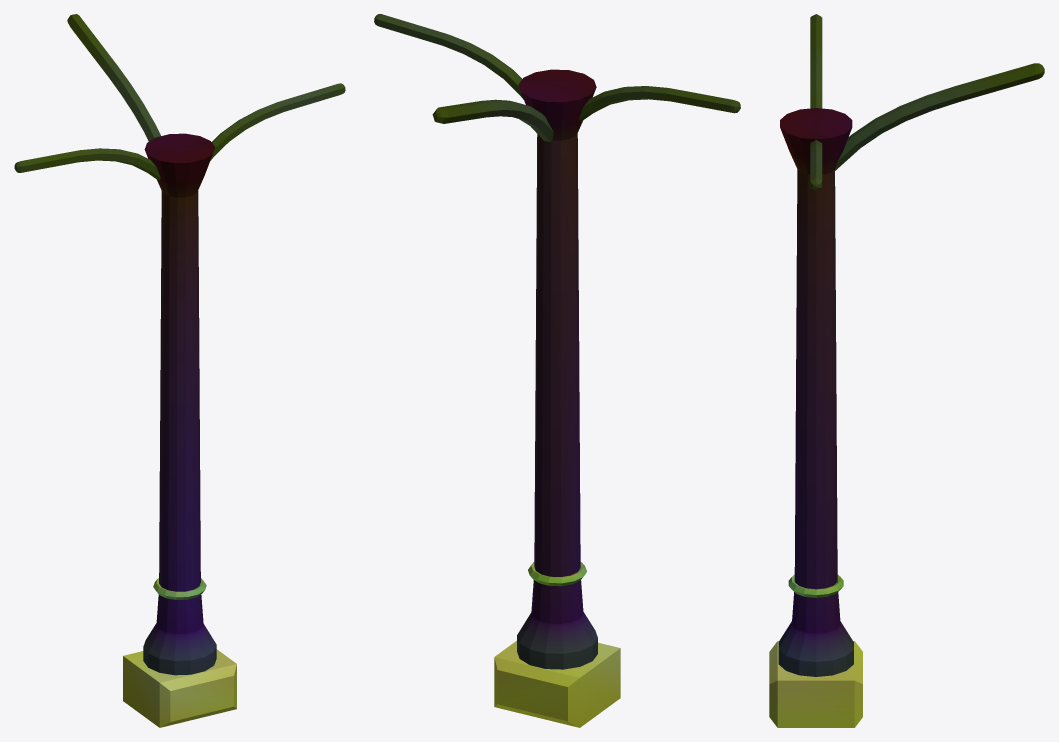
File: GS_EntranceCanopy_Column.fbx
3 views of the same model, side by side, from view 1: azimuth 30°, elevation 25°; view 2: azimuth 150°, elevation 25°; view 3: azimuth 270°, elevation 25° (orthographic). The views are drawn at different scales.
Parts seen in each view (by area): view 1: GS_EntranceCanopy_Column; view 2: GS_EntranceCanopy_Column; view 3: GS_EntranceCanopy_Column.
Part boxes in pixels (x1=…): GS_EntranceCanopy_Column: x1=14, y1=14, x2=345, y2=727; GS_EntranceCanopy_Column: x1=374, y1=14, x2=740, y2=727; GS_EntranceCanopy_Column: x1=769, y1=14, x2=1044, y2=727.
Size of the model in its own units: 2.9 by 5.15 by 2.
